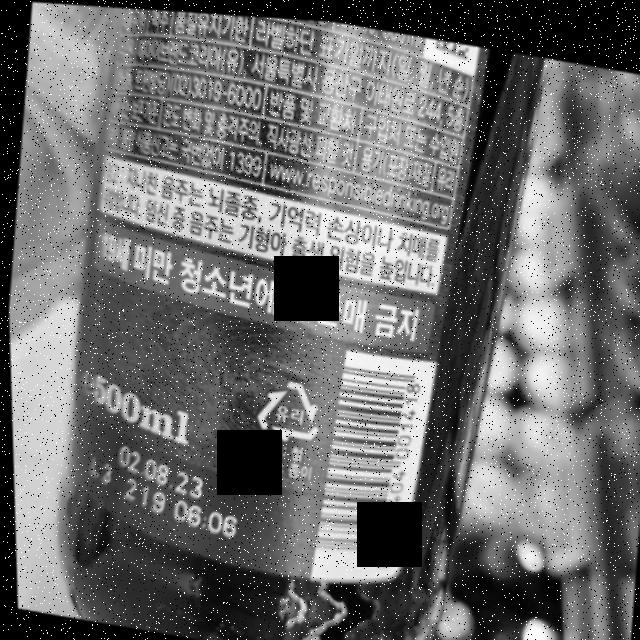Glass: (245, 365, 329, 447)
